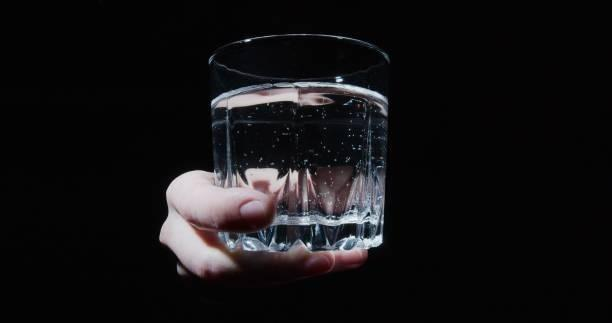glass-normal: (207, 32, 393, 255)
